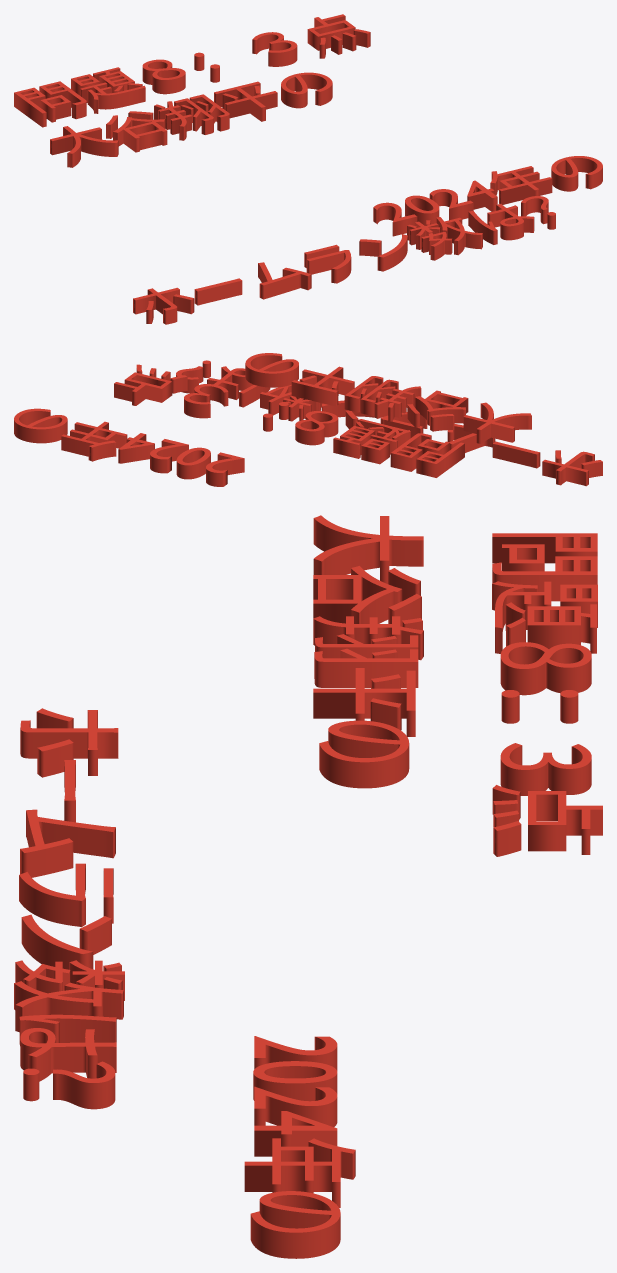
3 renders of one model, top to bottom at view 1: azimuth 30°, elevation 25°; view 2: azimuth 150°, elevation 25°; view 3: azimuth 270°, elevation 25°, orthographic. The views are drawn at different scales.
Parts seen in each view (by area): view 1: テキスト.002, テキスト.004, テキスト.001, テキスト.003; view 2: テキスト.004, テキスト.001, テキスト.002, テキスト.003; view 3: テキスト.002, テキスト.004, テキスト.001, テキスト.003.
Part boxes in pixels (x1,y1,x2,y2): テキスト.002: (133, 196, 555, 324); テキスト.004: (14, 14, 370, 127); テキスト.001: (50, 72, 332, 167); テキスト.003: (373, 156, 602, 236); テキスト.004: (114, 364, 464, 477); テキスト.001: (245, 353, 531, 443); テキスト.002: (176, 360, 602, 486); テキスト.003: (14, 408, 244, 486); テキスト.002: (14, 708, 124, 1109); テキスト.004: (492, 533, 602, 856); テキスト.001: (313, 515, 423, 788); テキスト.003: (244, 1036, 355, 1258).
Size of the model in its own units: 9.34 by 2.48 by 4.9.
